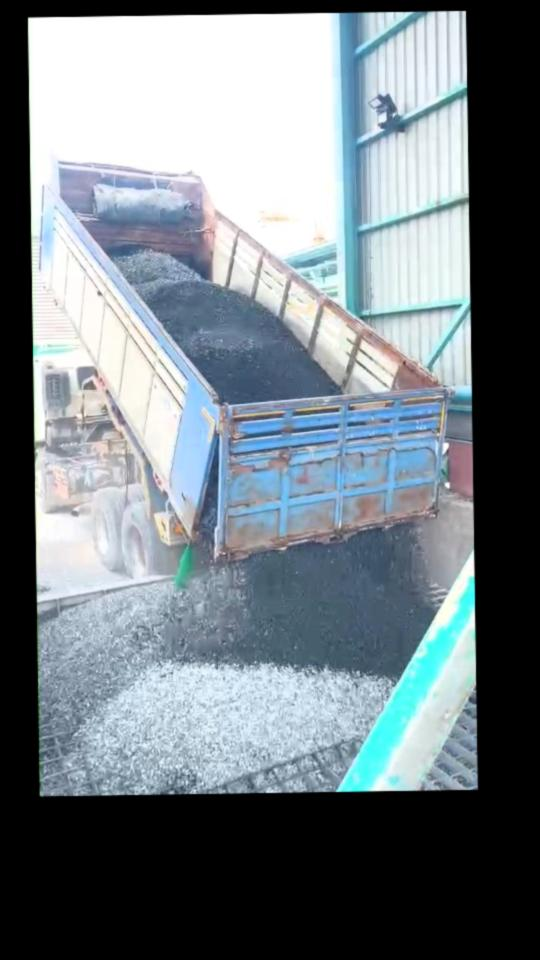gravel: (40, 529, 434, 794), (113, 249, 340, 403), (202, 461, 216, 547)
